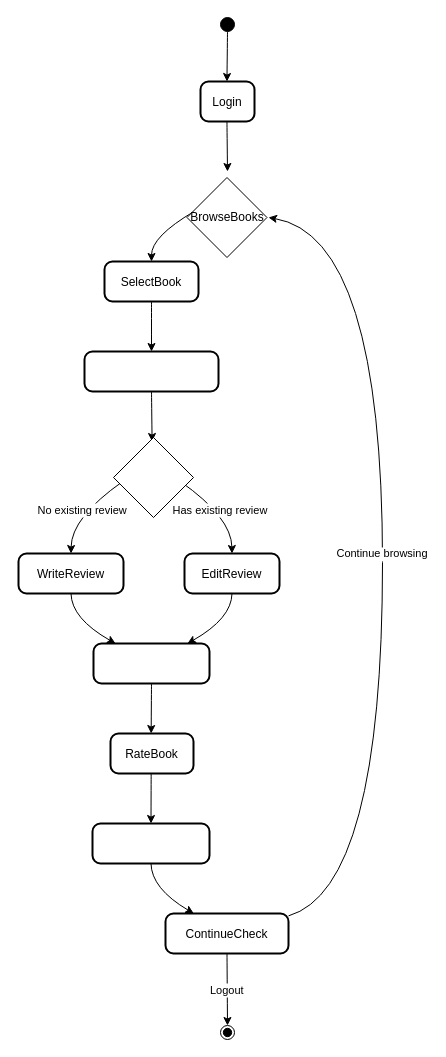
This 446x1057 diagram has some shape labels left out. Each missing label, with the centre of its shape:
"PublishReview" goes at pixel 150 843.
"ReviewCheck" goes at pixel 153 477.
"SubmitReview" goes at pixel 151 663.
"ViewBookDetails" goes at pixel 151 371.
